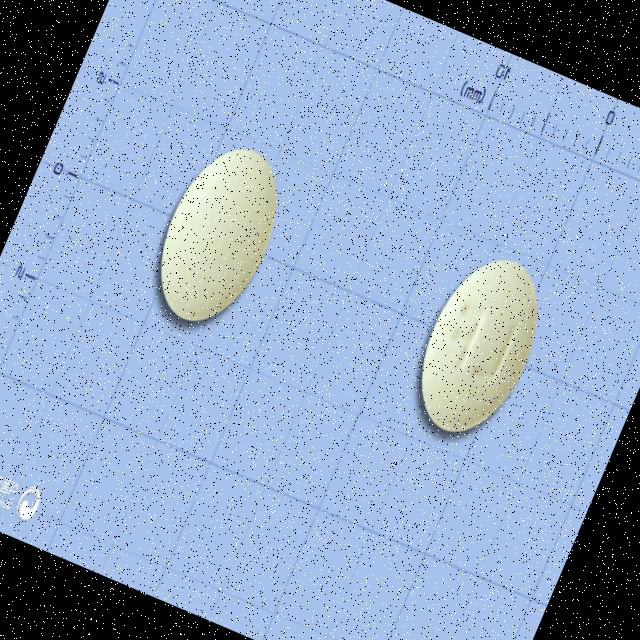Levofloxacin Tab- Dongsung: (396, 240, 562, 449), (136, 133, 298, 337)
